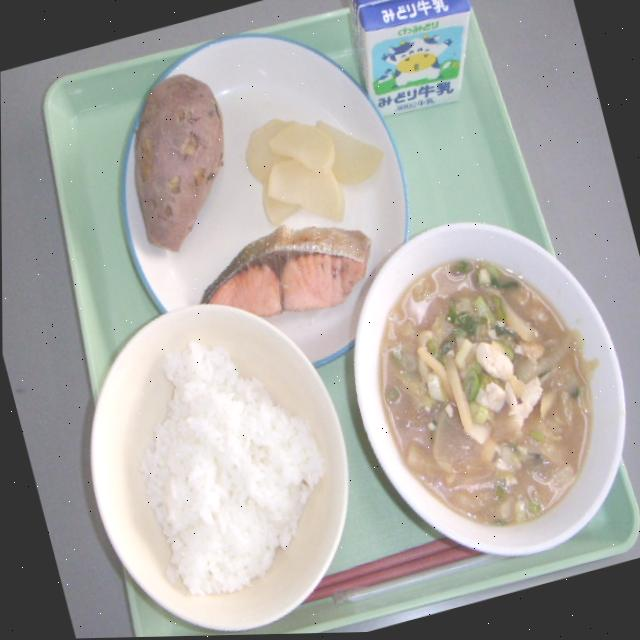熟制海鲜: (187, 202, 386, 342)
